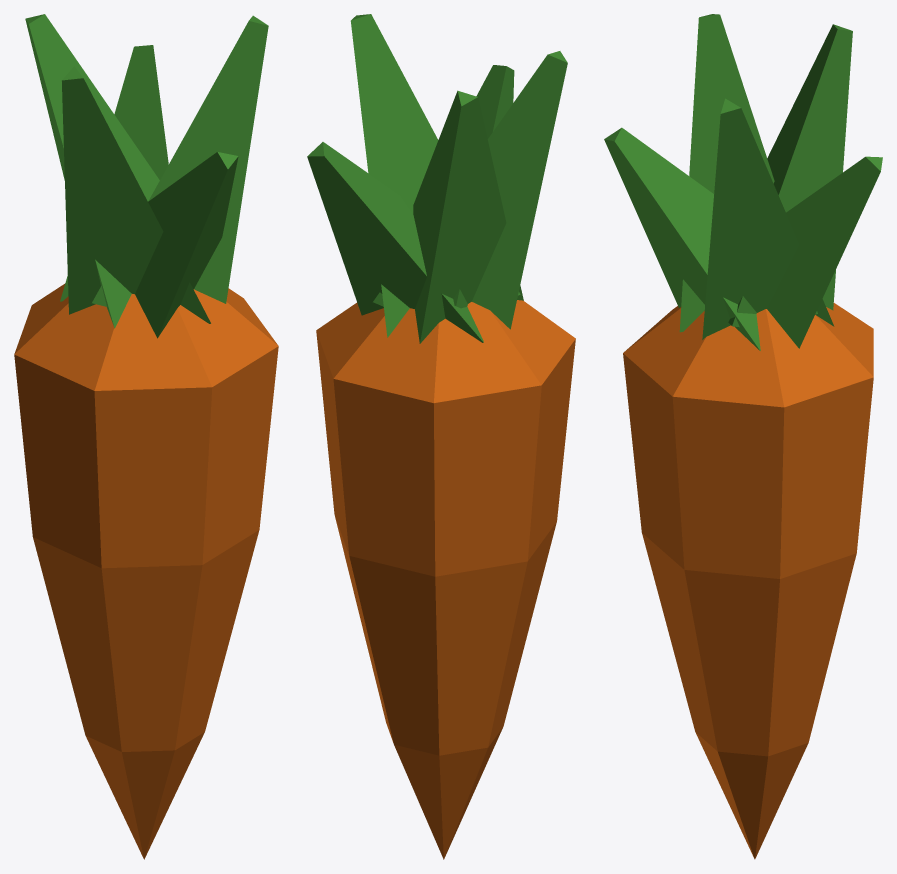
Rendered from carrot-1f7e61.glb.
The picture shows the model from 3 angles, left to right: view 1: azimuth 30°, elevation 25°; view 2: azimuth 150°, elevation 25°; view 3: azimuth 270°, elevation 25°; orthographic projection. The views are drawn at different scales.
Visible parts, largest first — view 1: carrot; view 2: carrot; view 3: carrot.
Boxes of the visible parts, bbox=[...] form: carrot: bbox=[14, 14, 278, 859]; carrot: bbox=[307, 14, 575, 859]; carrot: bbox=[604, 14, 882, 859].
Size of the model in its own units: 0.0819 by 0.2823 by 0.0888.
